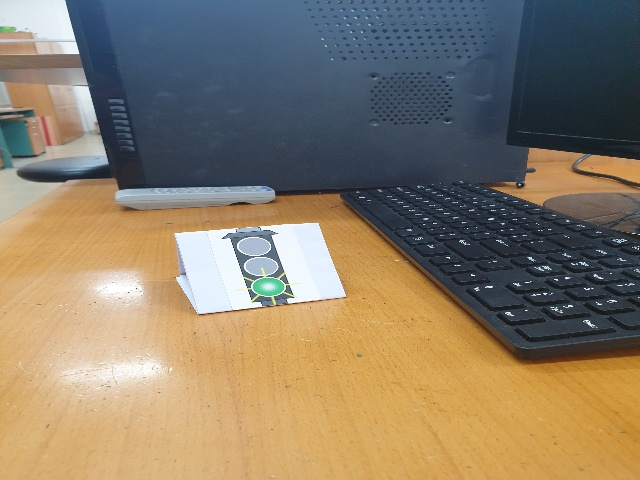Green Light: (211, 227, 310, 311)
